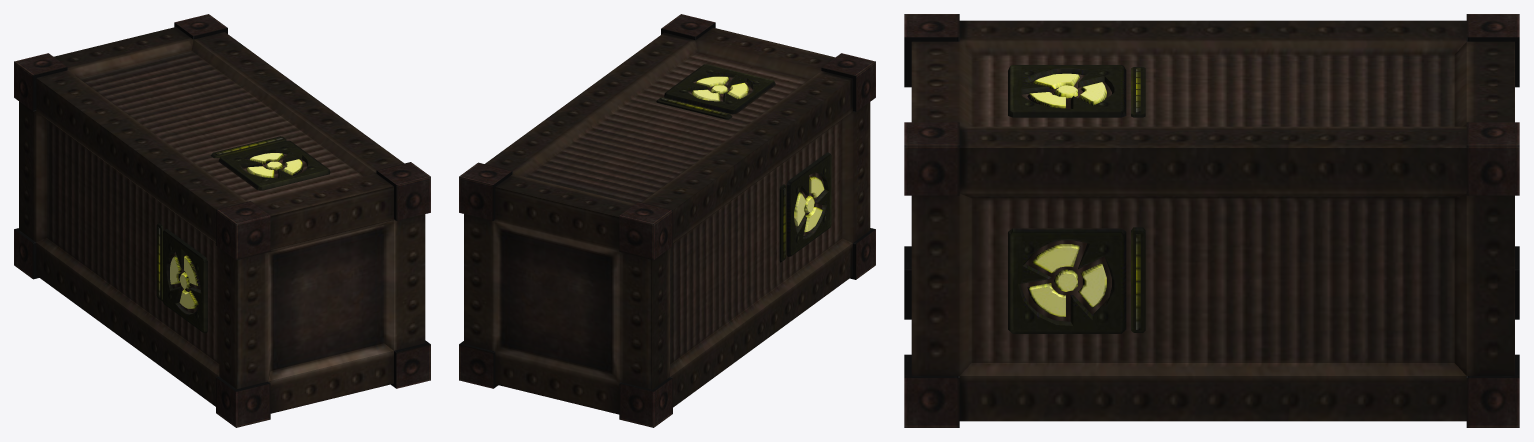
File: b_explob.obj
3 views of the same model, side by side, from view 1: azimuth 30°, elevation 25°; view 2: azimuth 150°, elevation 25°; view 3: azimuth 270°, elevation 25° (orthographic). The views are drawn at different scales.
Bounding box in the file's own units: 38.6 × 38.6 × 76.25.
Materials: 1 (1 with a texture image).
